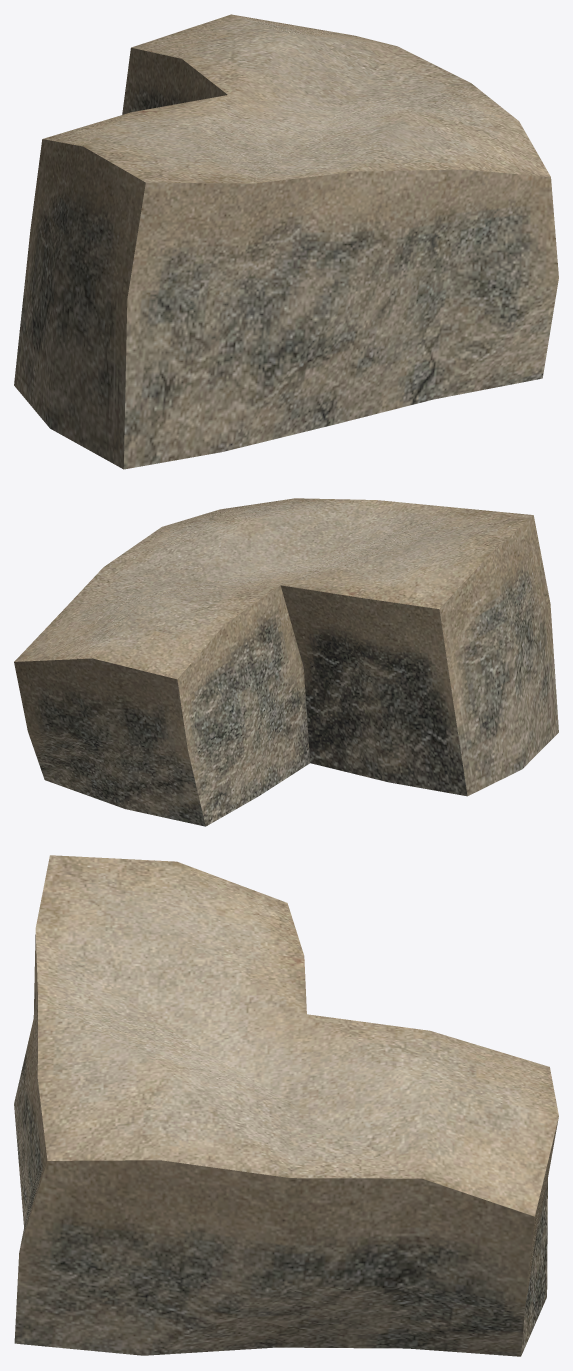
The model's file is desert-bigstone01.fbx.
3 renders of one model, top to bottom at view 1: azimuth 30°, elevation 25°; view 2: azimuth 150°, elevation 25°; view 3: azimuth 270°, elevation 25°, orthographic. The views are drawn at different scales.
Parts seen in each view (by area): view 1: desert-bigstone; view 2: desert-bigstone; view 3: desert-bigstone.
Boxes of the visible parts, box(x1,y1,x2,y2) form: desert-bigstone: box(14, 14, 558, 469); desert-bigstone: box(14, 498, 558, 826); desert-bigstone: box(14, 855, 558, 1356).
Bounding box in the file's own units: 7.09 × 3.9 × 6.6.
